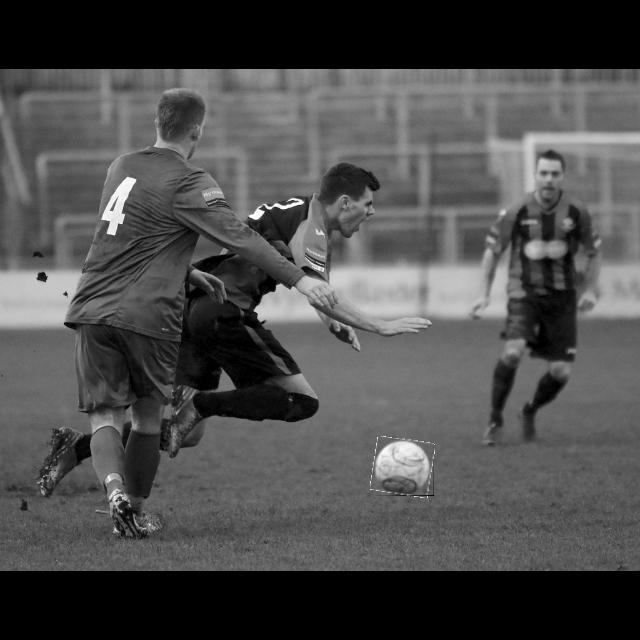Football: (372, 438, 434, 496)
